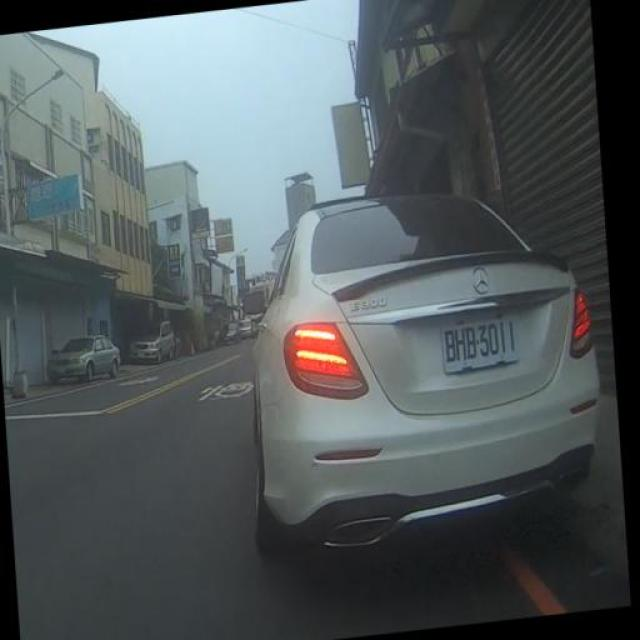Legalparking: (44, 308, 200, 411)
illegalparking: (230, 192, 635, 581)
